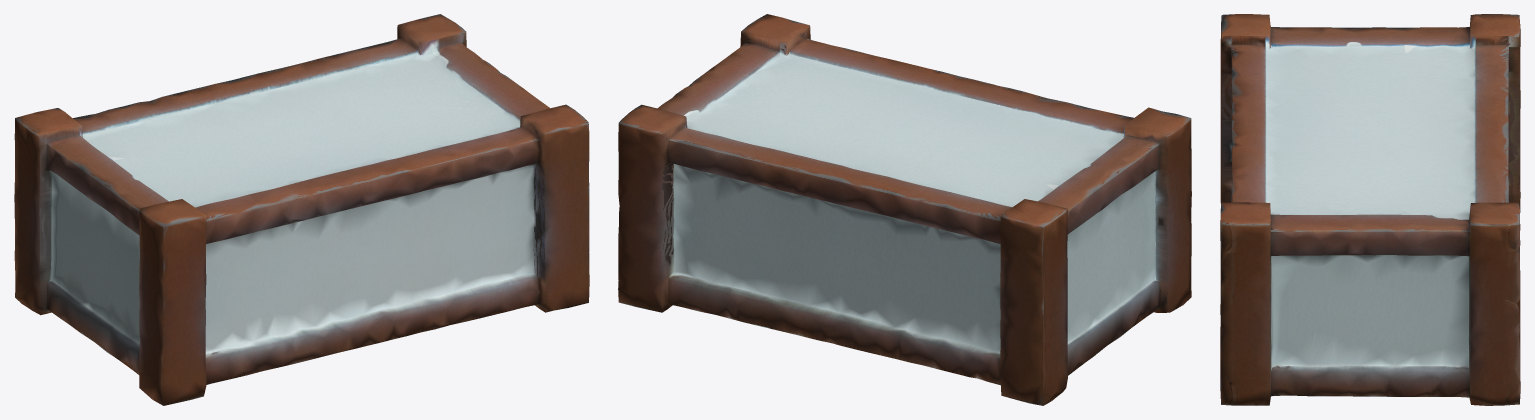
Rendered from SpiritMirror.fbx.
The picture shows the model from 3 angles, left to right: view 1: azimuth 30°, elevation 25°; view 2: azimuth 150°, elevation 25°; view 3: azimuth 270°, elevation 25°; orthographic projection.
Parts seen in each view (by area): view 1: texture_mapping; view 2: texture_mapping; view 3: texture_mapping.
Boxes of the visible parts, x1,y1,x2,y2 form: texture_mapping: [14, 14, 589, 405]; texture_mapping: [618, 14, 1191, 405]; texture_mapping: [1220, 14, 1520, 405].
Bounding box in the file's own units: 0.9942 × 0.5985 × 0.4012.
1 material, 1 textured.
